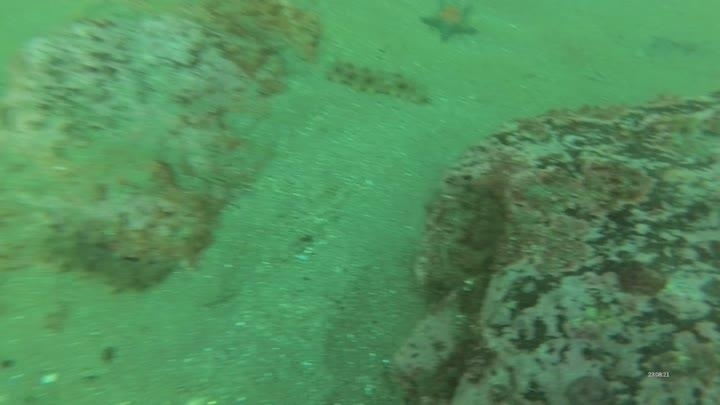holothurian: (38, 229, 181, 299), (323, 55, 435, 108)
starfish: (417, 0, 482, 45)
